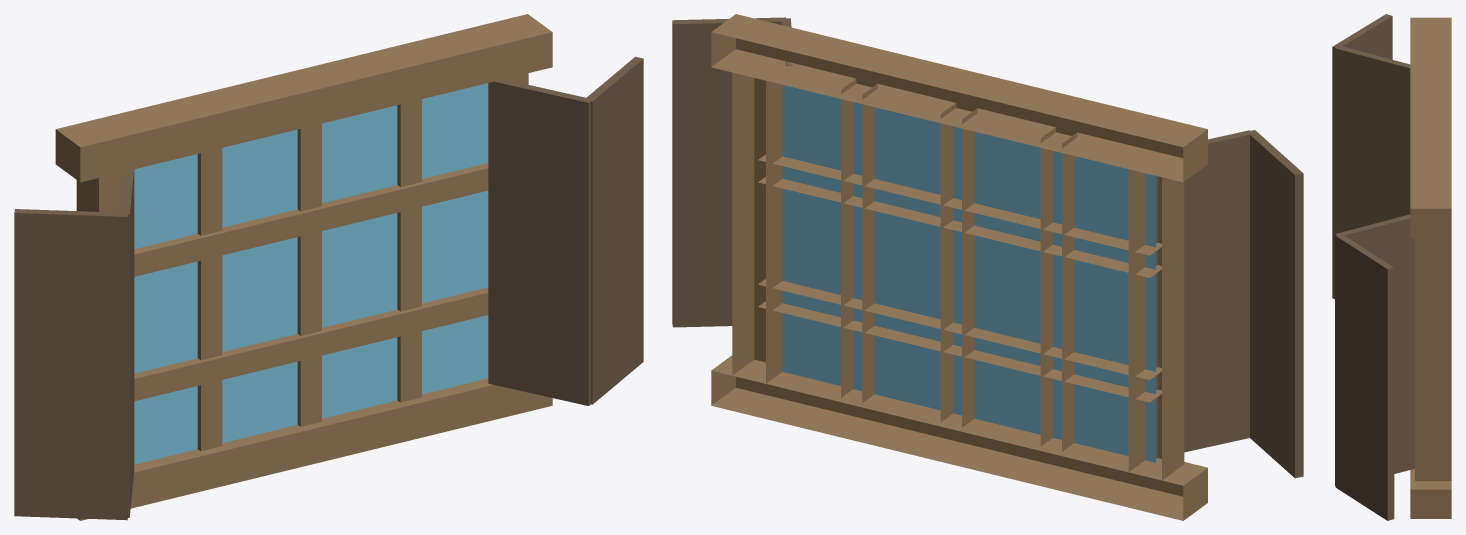
The model's file is House_Window_01.fbx.
3 views of the same model, side by side, from view 1: azimuth 30°, elevation 25°; view 2: azimuth 150°, elevation 25°; view 3: azimuth 270°, elevation 25° (orthographic). The views are drawn at different scales.
Parts seen in each view (by area): view 1: House_Window_01; view 2: House_Window_01; view 3: House_Window_01.
Boxes of the visible parts, x1,y1,x2,y2 form: House_Window_01: [14, 14, 643, 520]; House_Window_01: [672, 14, 1303, 520]; House_Window_01: [1332, 14, 1451, 520].
Size of the model in its own units: 82.59 by 46.78 by 16.3.
